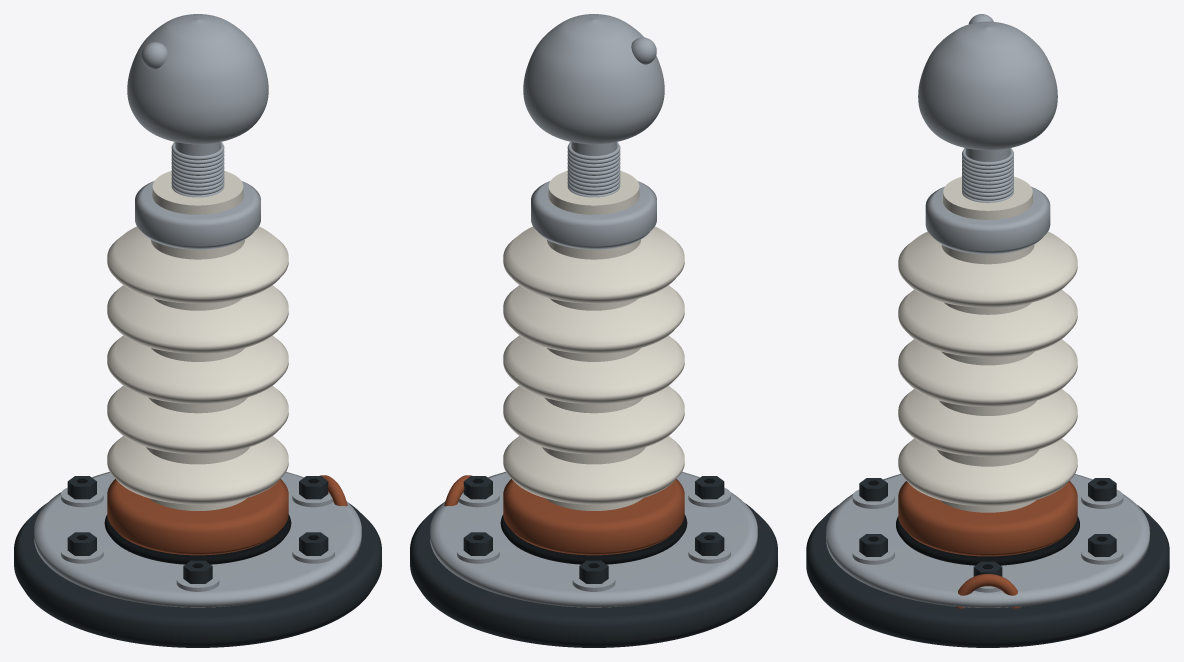
Rendered from discharge-device.glb.
The picture shows the model from 3 angles, left to right: view 1: azimuth 30°, elevation 25°; view 2: azimuth 150°, elevation 25°; view 3: azimuth 270°, elevation 25°; orthographic projection.
Visible parts, largest first — view 1: Опорный фланец, Основание · точёная кромка, Головка · полированная, Керамическое ребро 5, Нижнее кольцо, Керамическое ребро 4, Керамическое ребро 3, Керамическое ребро 2, Керамическое ребро 1, Керамический сердечник, Верхний зажим, Резиновая прокладка (+6 smaller); view 2: Опорный фланец, Основание · точёная кромка, Головка · полированная, Керамическое ребро 5, Нижнее кольцо, Керамическое ребро 4, Керамическое ребро 3, Керамическое ребро 2, Керамическое ребро 1, Керамический сердечник, Верхний зажим, Резиновая прокладка (+6 smaller); view 3: Опорный фланец, Основание · точёная кромка, Головка · полированная, Керамическое ребро 5, Нижнее кольцо, Керамическое ребро 4, Керамическое ребро 3, Керамическое ребро 2, Керамическое ребро 1, Керамический сердечник, Верхний зажим, Резиновая прокладка (+5 smaller).
Boxes of the visible parts, x1,y1,x2,y2 form: Опорный фланец: [34, 472, 361, 607]; Основание · точёная кромка: [14, 503, 381, 647]; Головка · полированная: [127, 14, 268, 144]; Керамическое ребро 5: [107, 226, 288, 303]; Нижнее кольцо: [107, 479, 288, 555]; Керамическое ребро 4: [107, 285, 288, 353]; Керамическое ребро 3: [107, 335, 288, 403]; Керамическое ребро 2: [107, 386, 288, 454]; Керамическое ребро 1: [107, 436, 288, 504]; Керамический сердечник: [146, 171, 249, 510]; Верхний зажим: [135, 181, 260, 249]; Резиновая прокладка: [104, 514, 291, 564]; Опорный фланец: [430, 472, 757, 607]; Основание · точёная кромка: [410, 503, 777, 647]; Головка · полированная: [523, 14, 664, 144]; Керамическое ребро 5: [503, 226, 684, 303]; Нижнее кольцо: [503, 479, 684, 555]; Керамическое ребро 4: [503, 285, 684, 353]; Керамическое ребро 3: [503, 335, 684, 403]; Керамическое ребро 2: [503, 386, 684, 454]; Керамическое ребро 1: [503, 436, 684, 504]; Керамический сердечник: [542, 171, 645, 510]; Верхний зажим: [531, 181, 656, 249]; Резиновая прокладка: [500, 514, 687, 564]; Опорный фланец: [826, 474, 1149, 607]; Основание · точёная кромка: [806, 505, 1169, 647]; Головка · полированная: [918, 21, 1057, 150]; Керамическое ребро 5: [898, 231, 1077, 307]; Нижнее кольцо: [898, 481, 1077, 556]; Керамическое ребро 4: [898, 289, 1077, 357]; Керамическое ребро 3: [898, 339, 1077, 406]; Керамическое ребро 2: [898, 389, 1077, 456]; Керамическое ребро 1: [898, 438, 1077, 506]; Керамический сердечник: [936, 176, 1039, 512]; Верхний зажим: [925, 186, 1050, 254]; Резиновая прокладка: [896, 516, 1079, 565].
Size of the model in its own units: 1.46 by 2.44 by 1.46.
